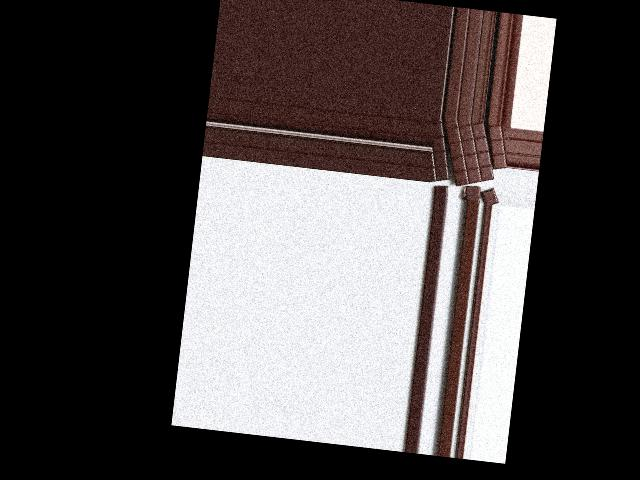chocolate: (438, 117, 501, 189)
